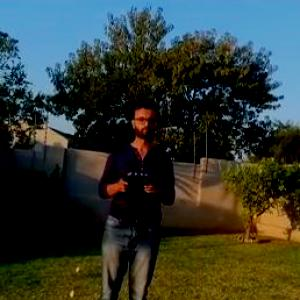follow: (90, 94, 184, 299)
